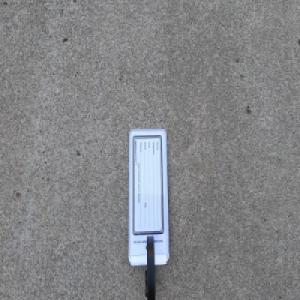LuggageTag: (127, 125, 171, 300)
